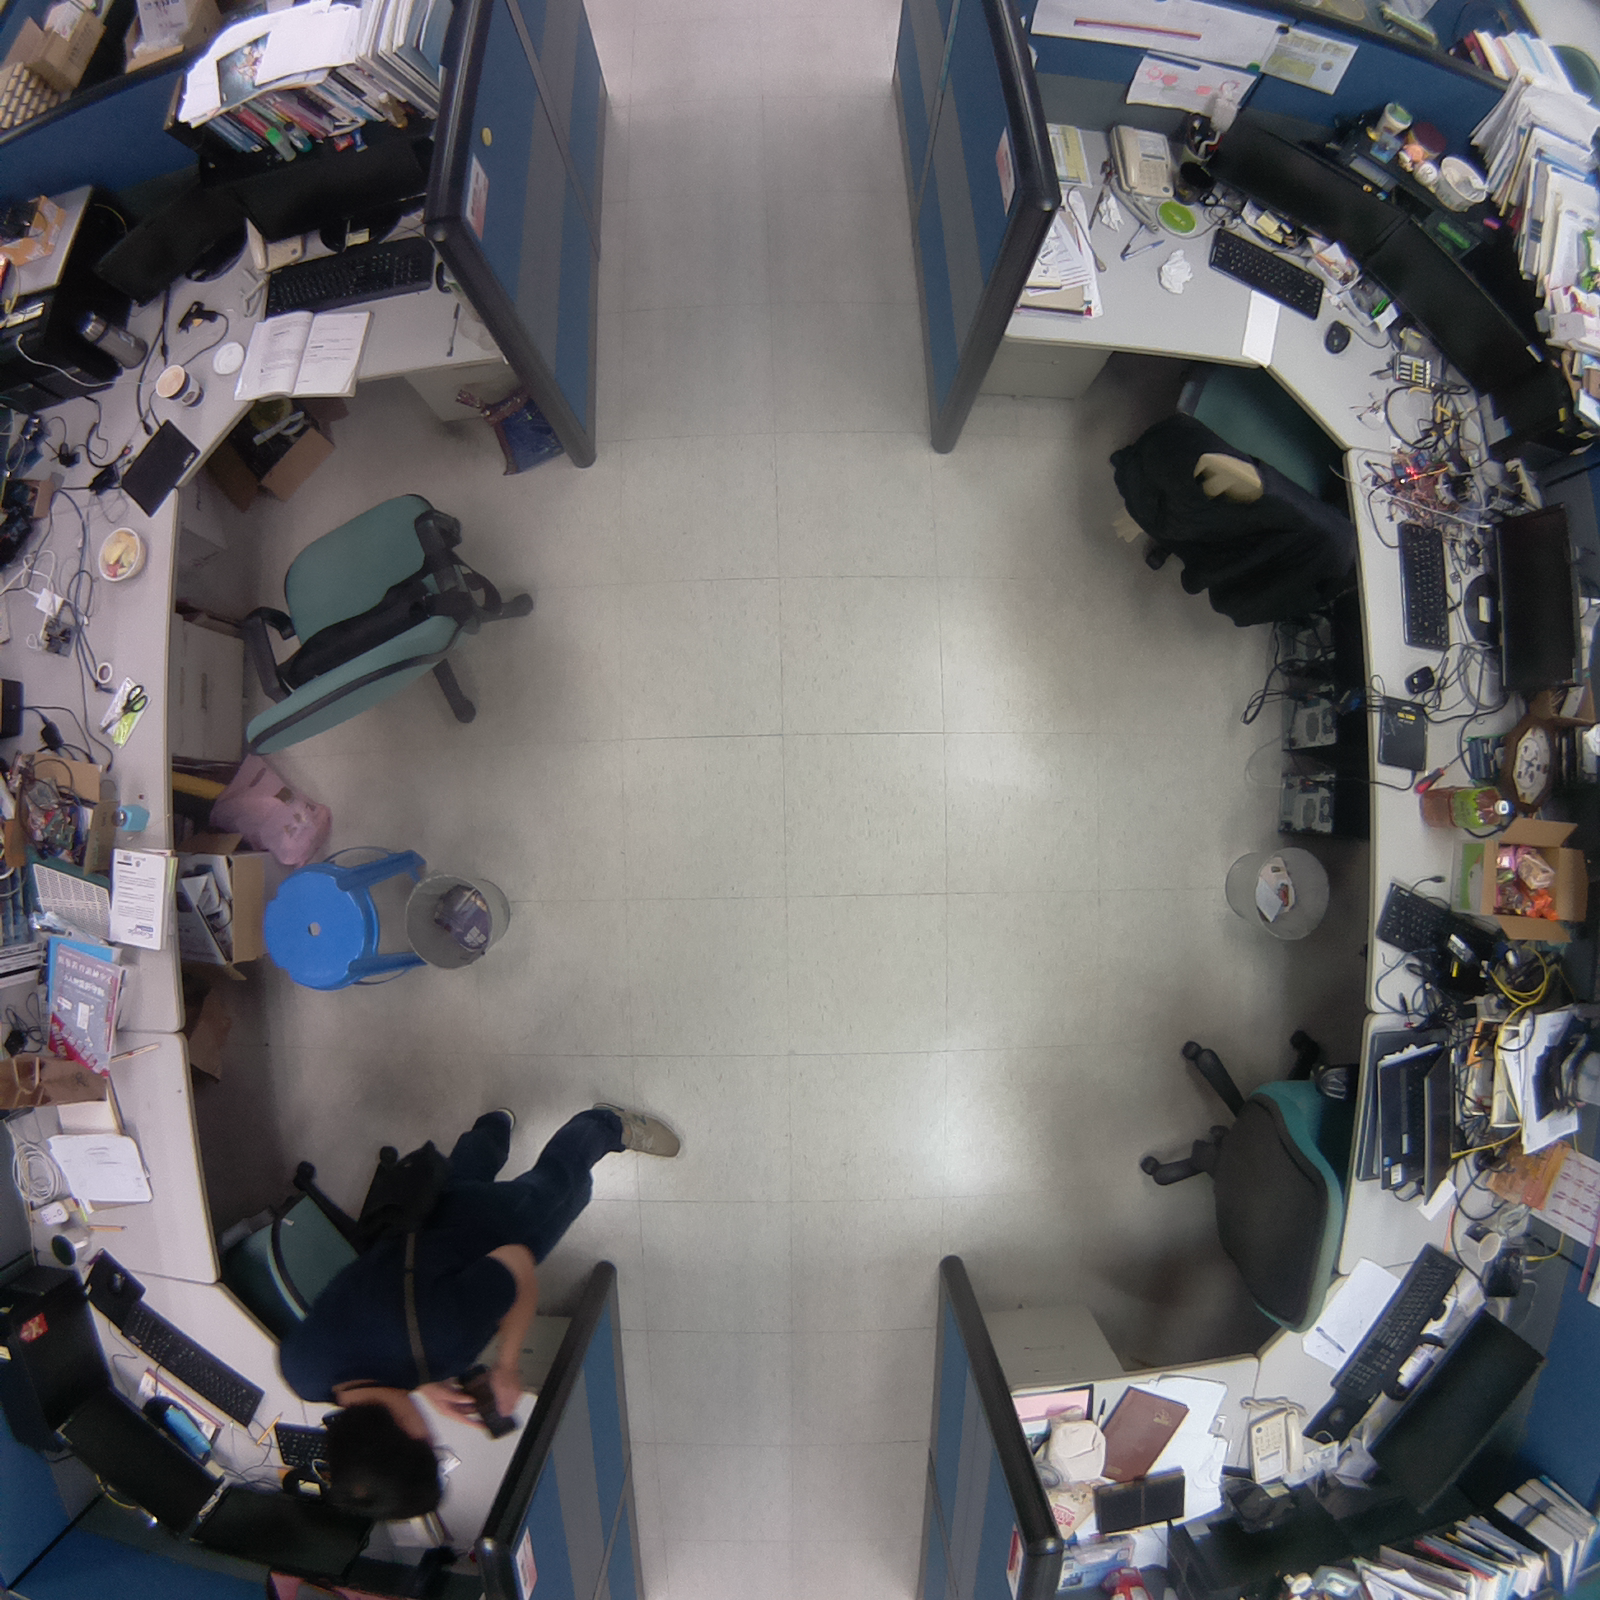chair: (224, 478, 568, 783), (1081, 334, 1376, 642), (1114, 1006, 1360, 1360)
head: (317, 1404, 453, 1527)
standing: (264, 1083, 699, 1540)
